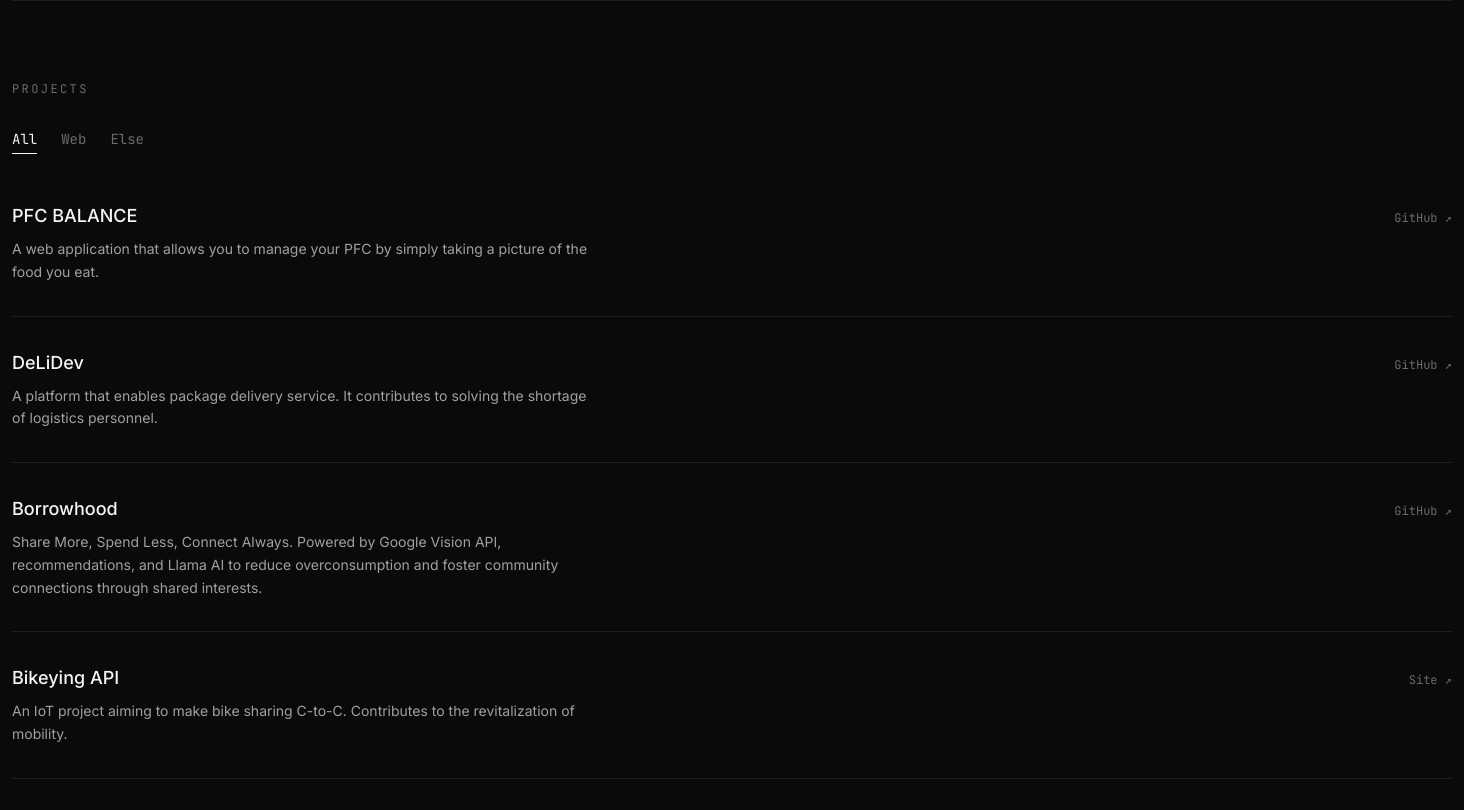
Test case: ProjectsSection › displays only the else projects when we click on the "Else" tag
This screenshot has width=1464, height=810.
Click the button "Else" at coordinates (127, 142), box [110,129,144,154]
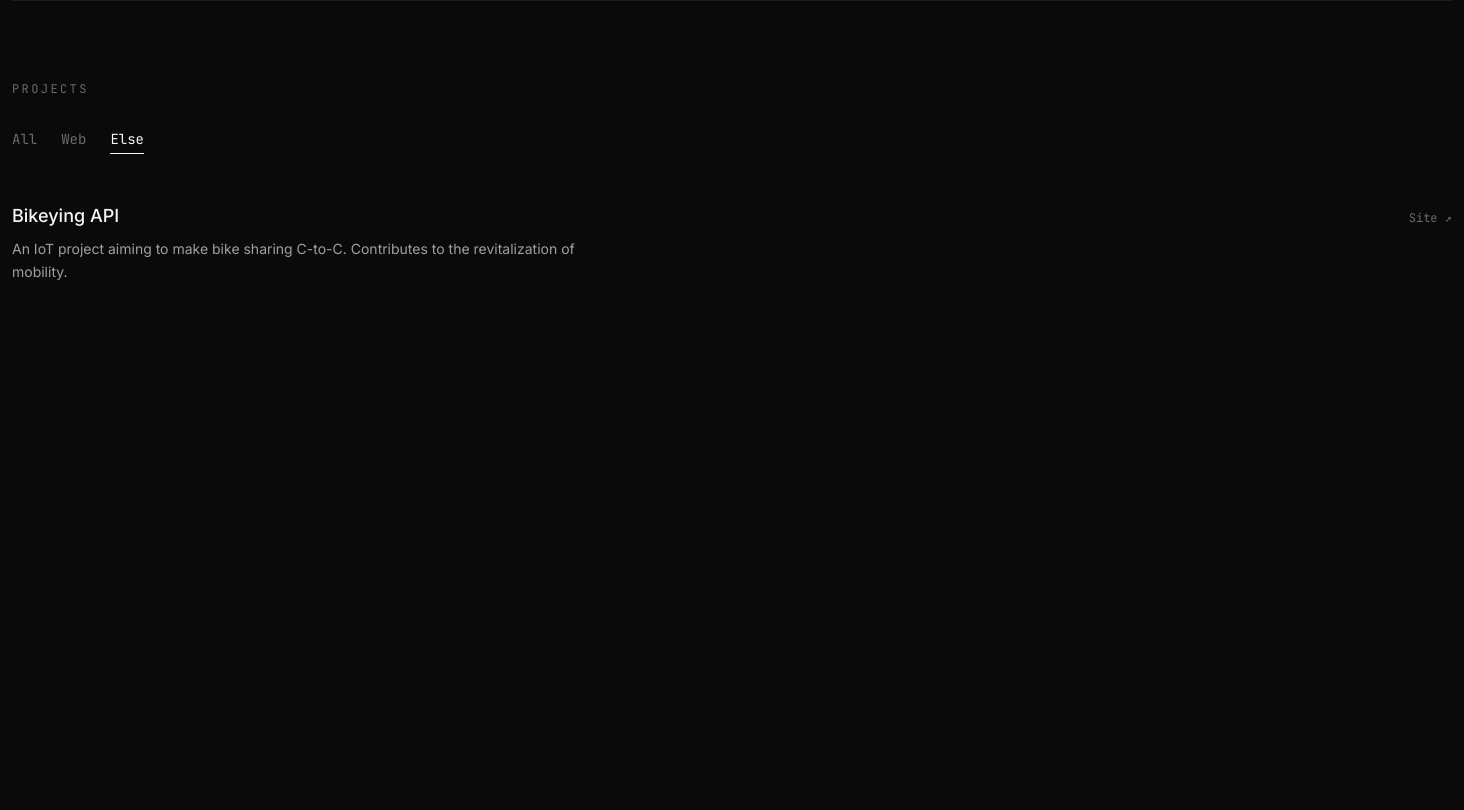
Now the heading "PFC BALANCE" is gone
Now the heading "DeLiDev" is gone
Now the heading "Borrowhood" is gone
